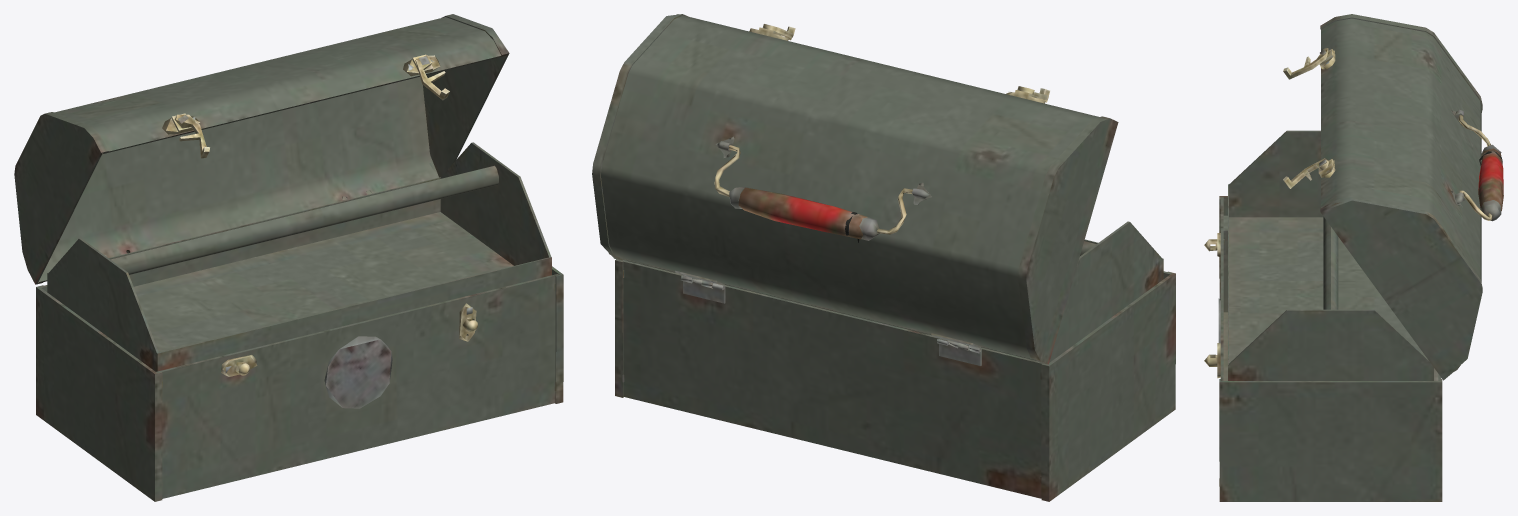
The model's file is htoolbox.glb.
3 renders of one model, left to right at view 1: azimuth 30°, elevation 25°; view 2: azimuth 150°, elevation 25°; view 3: azimuth 270°, elevation 25°, orthographic. The views are drawn at different scales.
Parts seen in each view (by area): view 1: htoolbox; view 2: htoolbox; view 3: htoolbox.
Part boxes in pixels (x1,y1,x2,y2): htoolbox: [14, 14, 563, 501]; htoolbox: [592, 14, 1175, 501]; htoolbox: [1204, 14, 1503, 501].
Size of the model in its own units: 0.4 by 0.3042 by 0.2716.
Materials: 1 (1 with a texture image).
